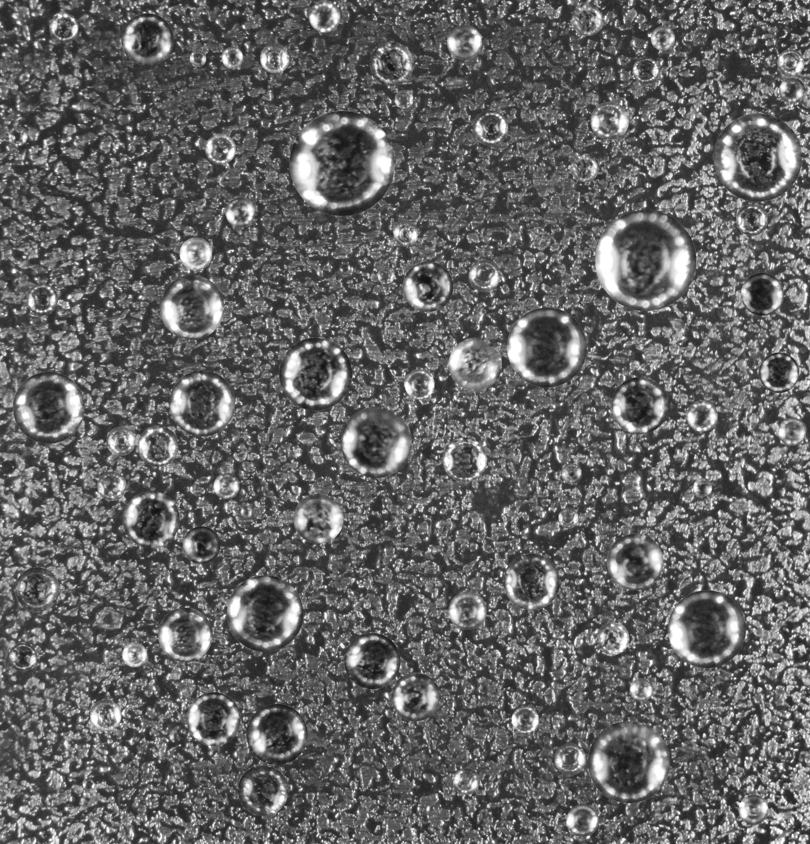Bubble: (289, 110, 394, 215), (595, 209, 696, 310), (713, 113, 802, 201), (588, 721, 669, 803), (507, 307, 586, 387), (668, 590, 745, 668), (226, 575, 303, 651), (279, 337, 352, 410), (12, 371, 84, 443), (340, 406, 411, 477), (169, 370, 235, 436), (159, 275, 224, 339), (246, 704, 307, 765), (122, 491, 179, 548), (611, 377, 668, 434), (607, 533, 663, 590), (503, 553, 559, 610), (344, 633, 400, 689), (158, 607, 212, 662), (186, 692, 240, 746), (448, 337, 501, 390), (121, 13, 173, 65), (402, 261, 453, 311), (237, 765, 288, 815), (293, 493, 343, 543), (391, 672, 439, 721), (442, 437, 486, 481), (15, 567, 59, 611), (370, 42, 413, 85), (741, 272, 783, 315), (137, 425, 178, 466), (759, 352, 799, 392), (590, 101, 628, 140), (182, 526, 220, 564), (448, 591, 486, 629), (473, 110, 508, 145), (447, 24, 482, 59), (179, 237, 212, 270), (596, 622, 629, 654), (554, 743, 586, 775), (566, 804, 598, 836), (571, 3, 603, 35), (308, 0, 340, 32), (89, 699, 121, 731), (468, 260, 500, 291), (26, 283, 57, 315), (736, 204, 767, 235), (686, 400, 717, 431), (205, 133, 235, 164), (404, 369, 434, 399), (225, 197, 255, 227), (260, 43, 289, 73), (738, 795, 768, 824), (49, 13, 78, 42), (97, 471, 126, 500), (106, 426, 135, 455), (570, 153, 599, 181), (8, 643, 36, 671), (778, 417, 806, 445), (777, 49, 804, 76), (511, 706, 538, 733), (632, 57, 659, 83), (453, 768, 479, 794), (213, 473, 239, 499), (779, 77, 805, 103), (393, 221, 418, 246), (122, 642, 147, 667), (650, 26, 675, 50), (629, 678, 653, 701), (221, 46, 243, 68), (558, 507, 579, 528), (561, 463, 581, 483), (394, 89, 413, 108), (8, 126, 27, 145), (693, 478, 712, 496), (377, 267, 394, 283), (189, 50, 206, 66), (81, 778, 94, 791), (240, 506, 252, 517), (339, 262, 350, 273)
